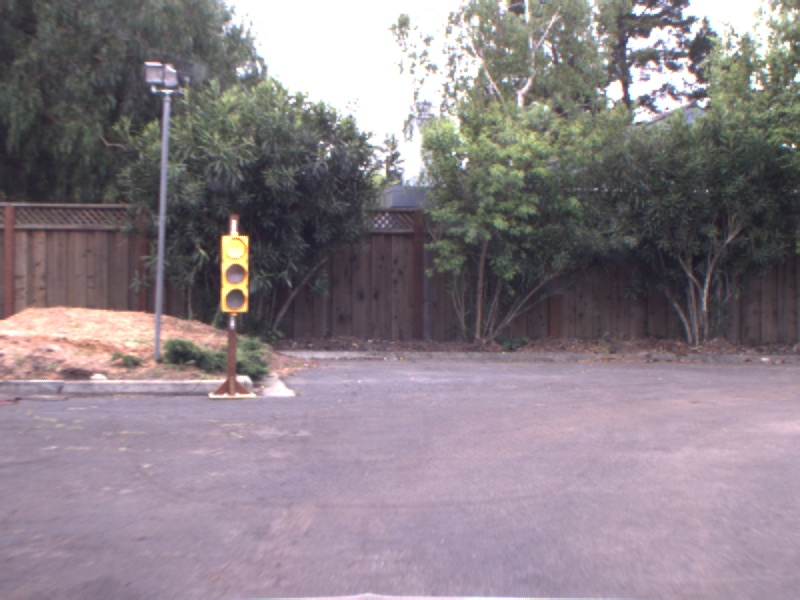red: (216, 232, 252, 318)
